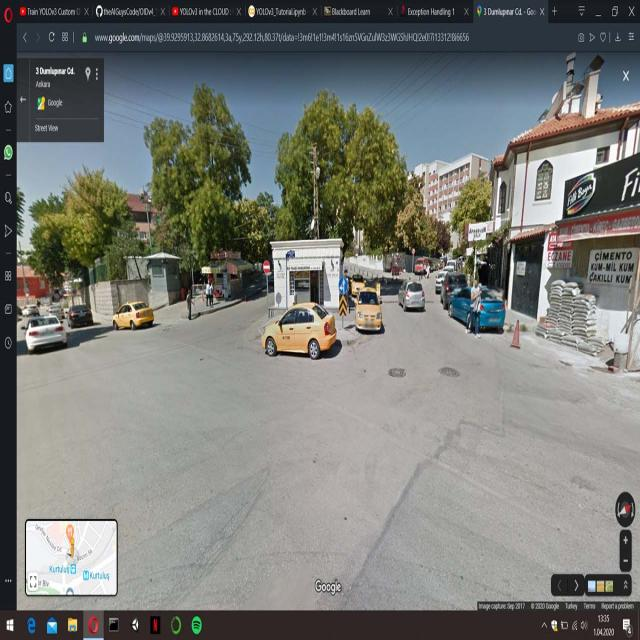girisyok: (262, 260, 270, 274)
ilerisol: (338, 276, 348, 292)
